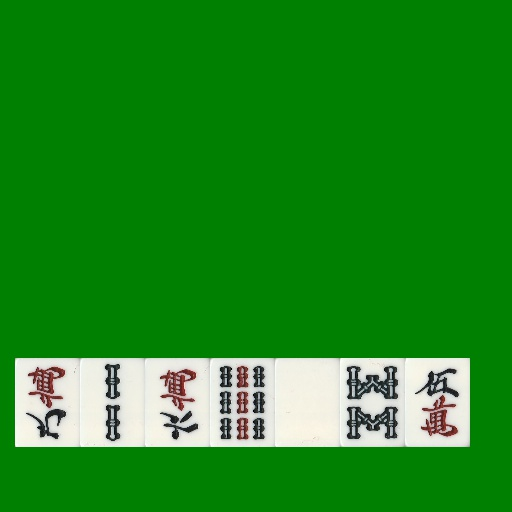2s: (80, 358, 145, 447)
5m: (405, 358, 470, 447)
6m: (145, 358, 210, 447)
8s: (340, 358, 405, 447)
9m: (15, 358, 80, 447)
9s: (210, 358, 275, 447)
white: (275, 358, 340, 447)
